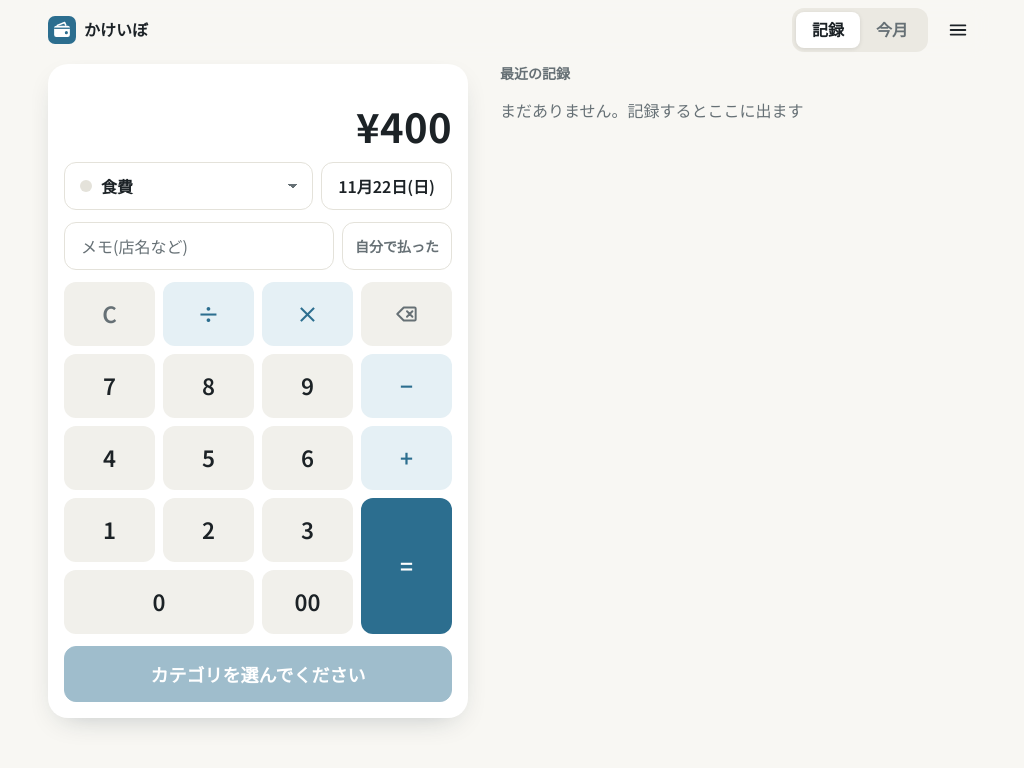
Scenario: 記録する › カテゴリの予算があれば、そのカテゴリの残りを知らせる。超えたら超えた額を先に知らせる
This screenshot has width=1024, height=768.
Select "食費" in the dropdown at (189, 186), box [64, 162, 313, 210]
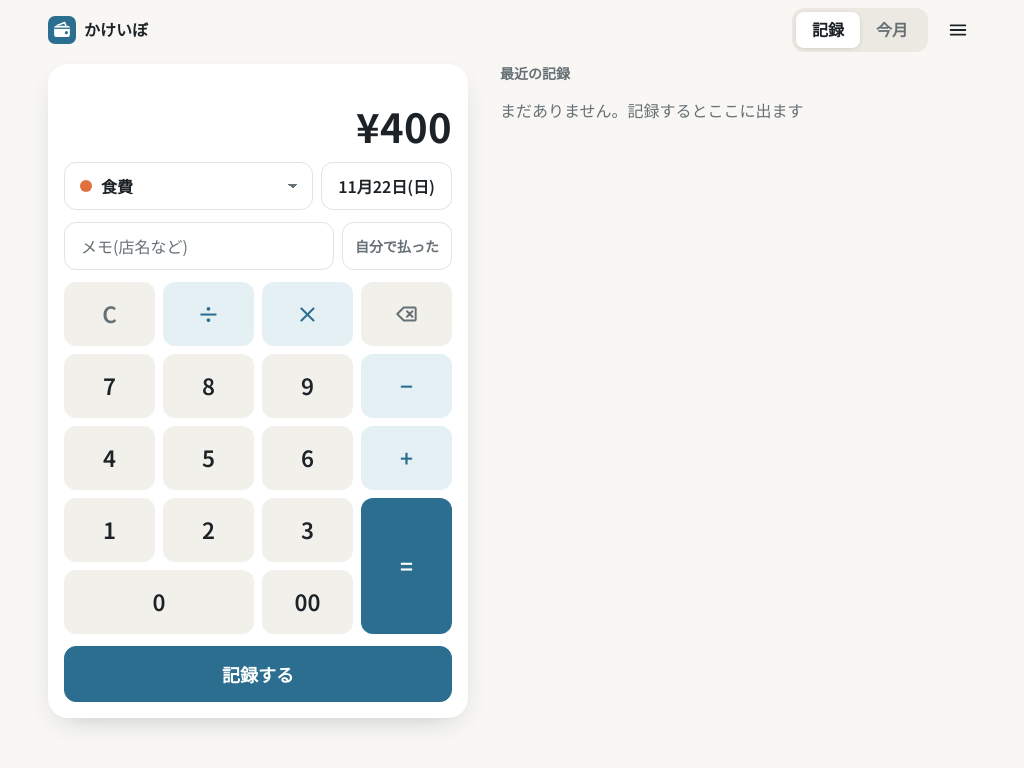
Click the button with class "submit" at (258, 674), box [64, 646, 452, 702]
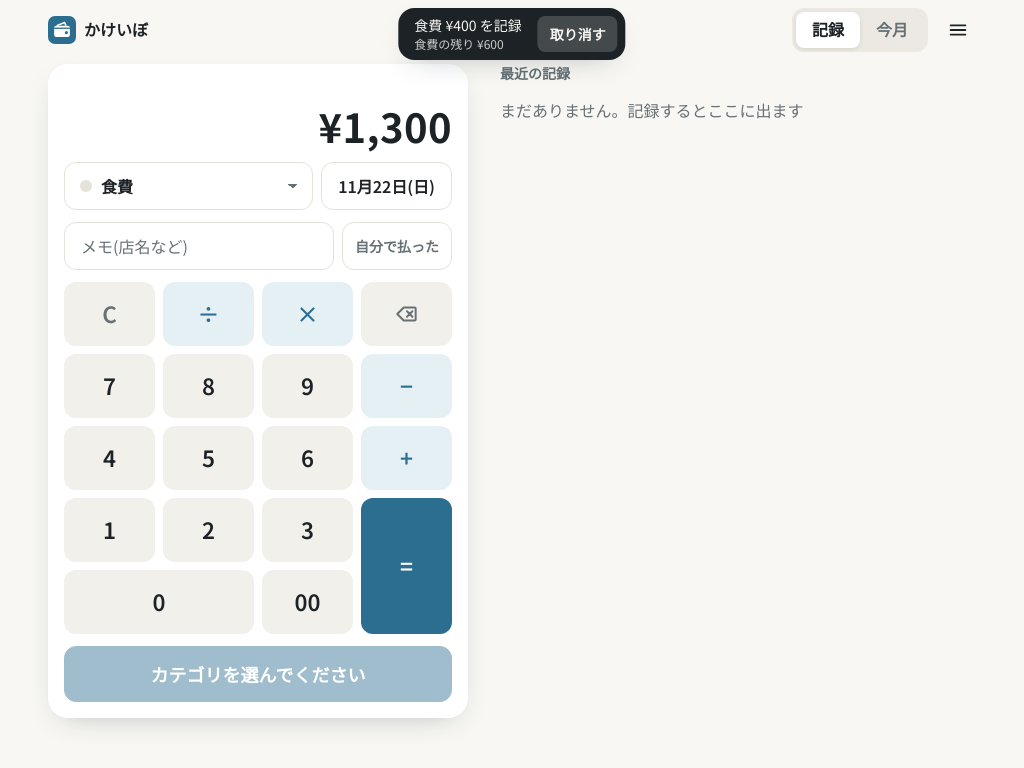
Expected: the message with class "toast" shows "食費の残り ¥600", [414, 35, 504, 52]
Select "食費" in the dropdown at (189, 186), box [64, 162, 313, 210]
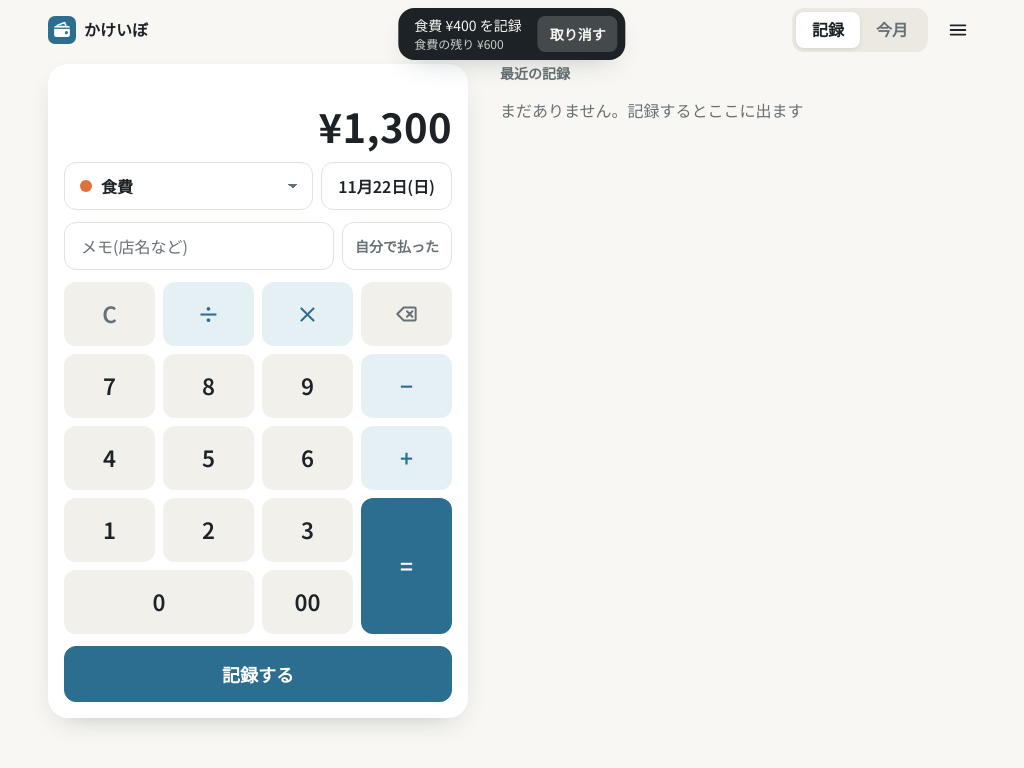
Click the button with class "submit" at (258, 674), box [64, 646, 452, 702]
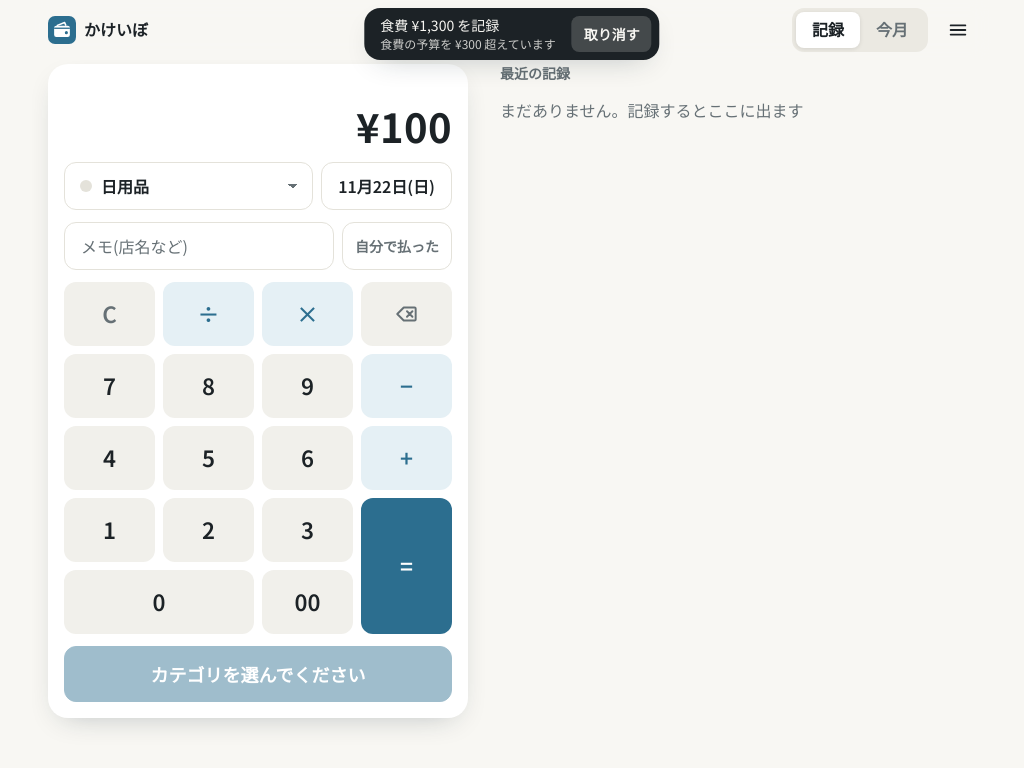
Expected: the message with class "toast" shows "食費の予算を ¥300 超えています", [380, 35, 556, 52]
Select "日用品" in the dropdown at (189, 186), box [64, 162, 313, 210]
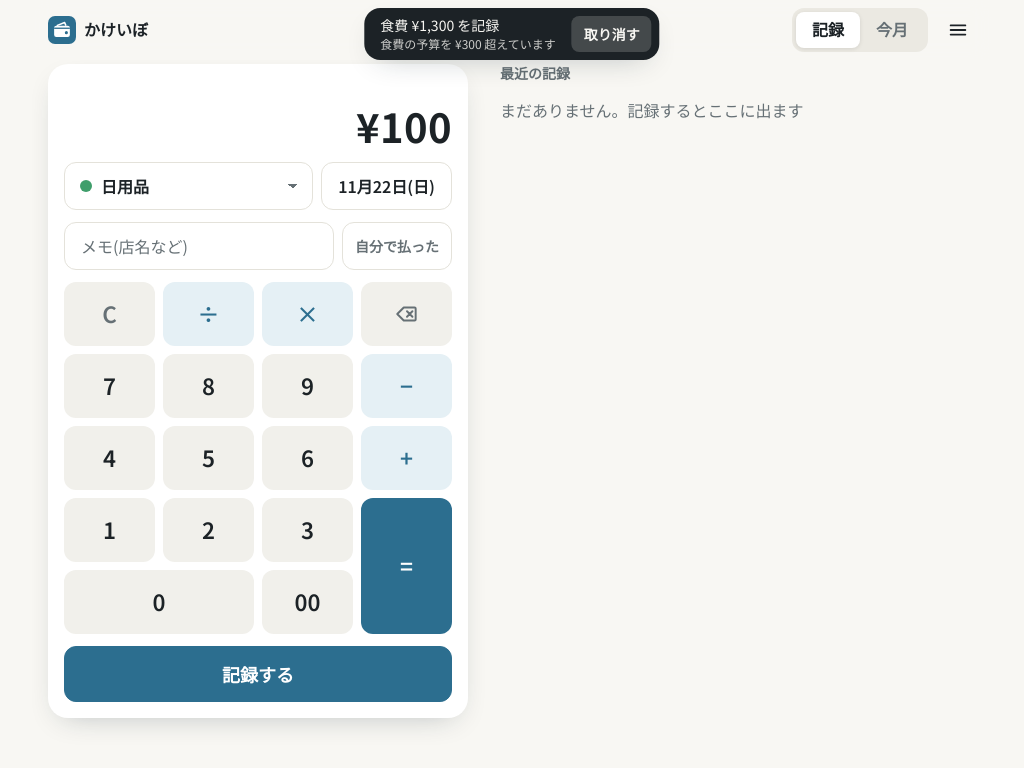
Click the button with class "submit" at (258, 674), box [64, 646, 452, 702]
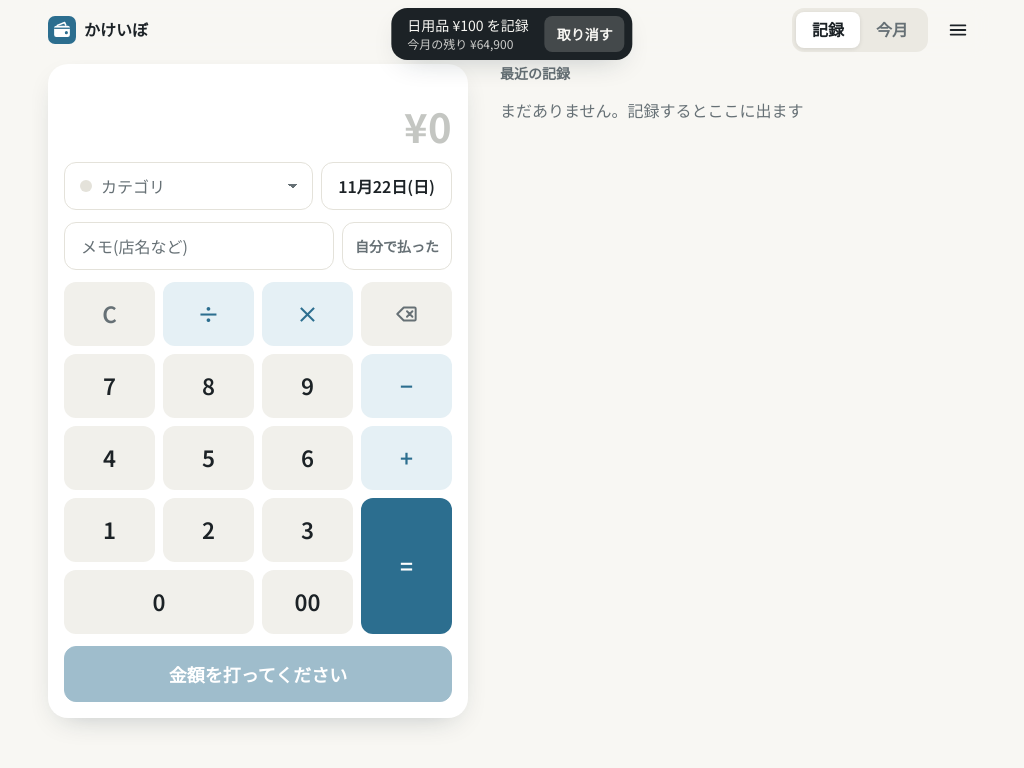
Expected: the message with class "toast" shows "今月の残り ¥64,900", [407, 35, 513, 52]
